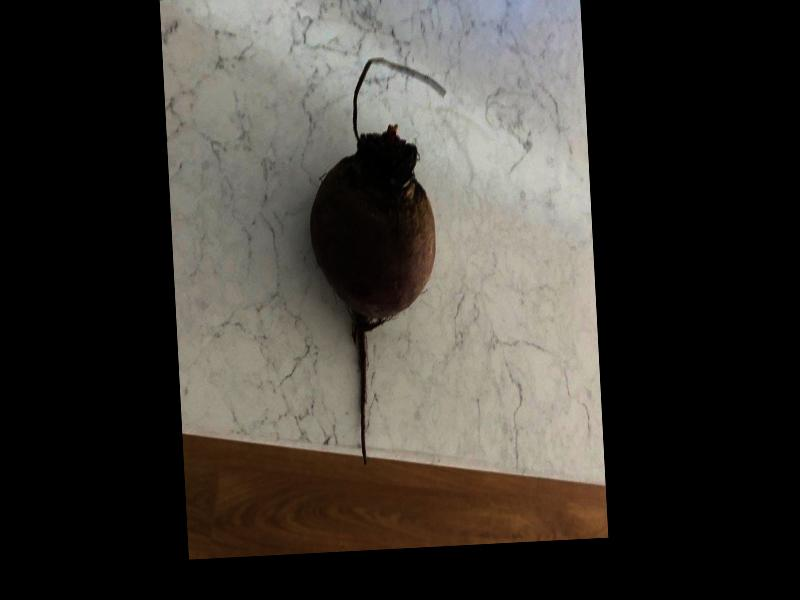Beet: (301, 56, 464, 467)
